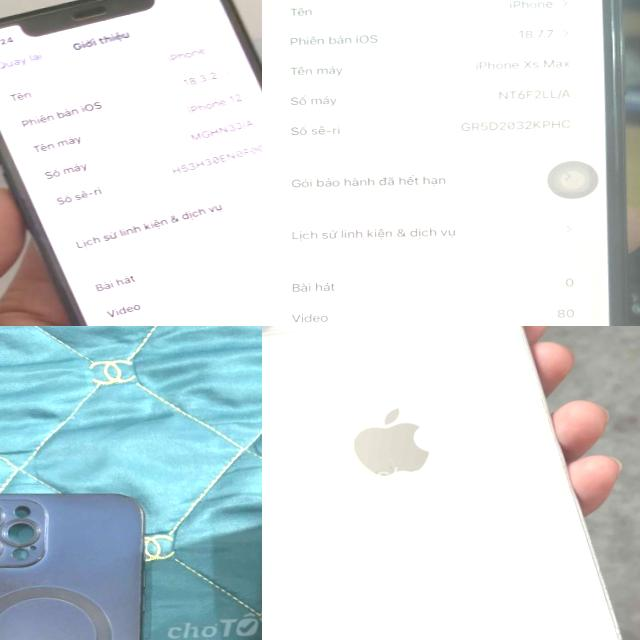gen_12_13: (262, 326, 634, 640), (0, 0, 262, 326)
gen_x_xs: (262, 0, 625, 326)
